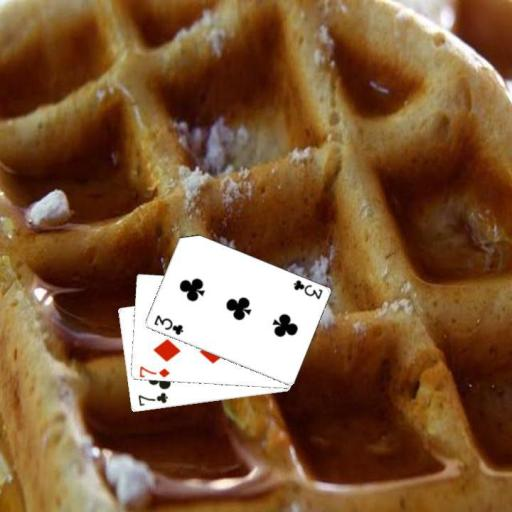3C: (150, 312, 184, 337), (290, 277, 324, 301)
7C: (135, 390, 170, 408)
7D: (136, 364, 171, 379)
